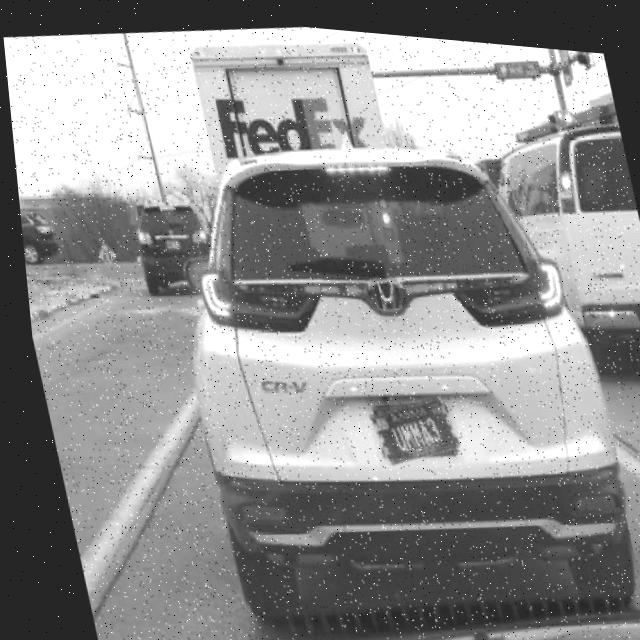LicensePlate: (360, 388, 453, 459)
